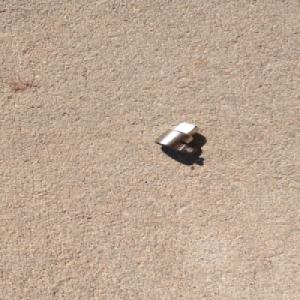MetalPart: (152, 121, 202, 157)
